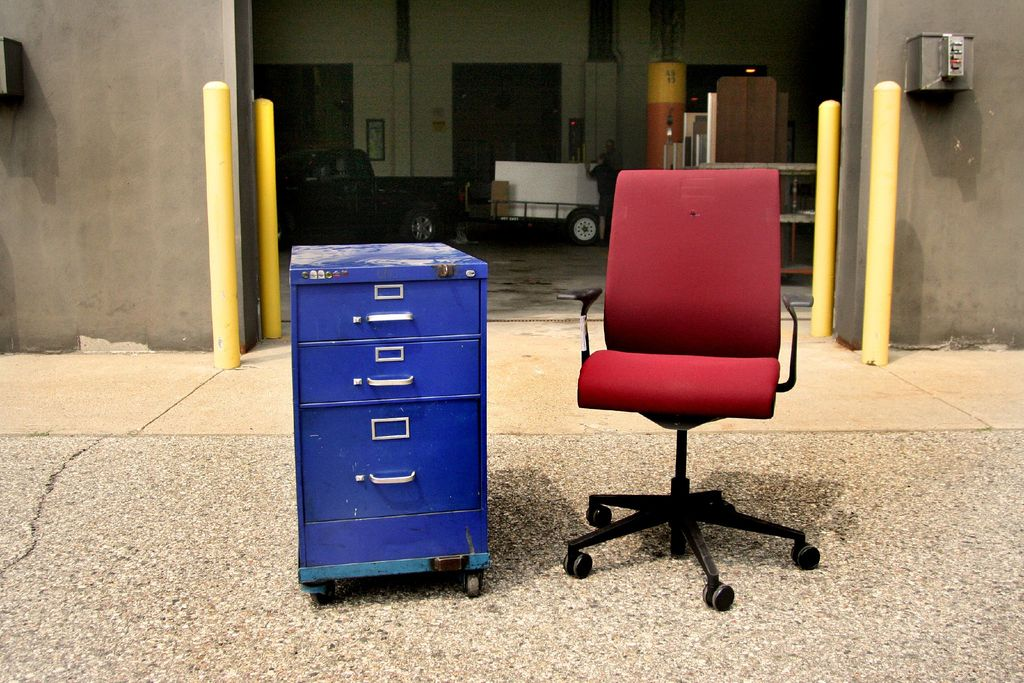cabinet door: (301, 409, 477, 507), (303, 283, 479, 340), (300, 346, 476, 400)
handle: (363, 307, 419, 332), (366, 469, 422, 486), (365, 376, 414, 394)
